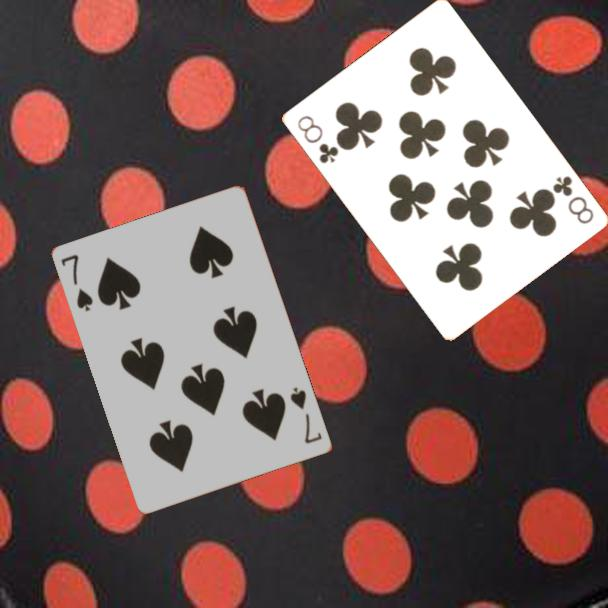c08: (293, 112, 341, 166), (549, 172, 596, 227)
s07: (57, 251, 96, 315), (287, 384, 325, 447)
